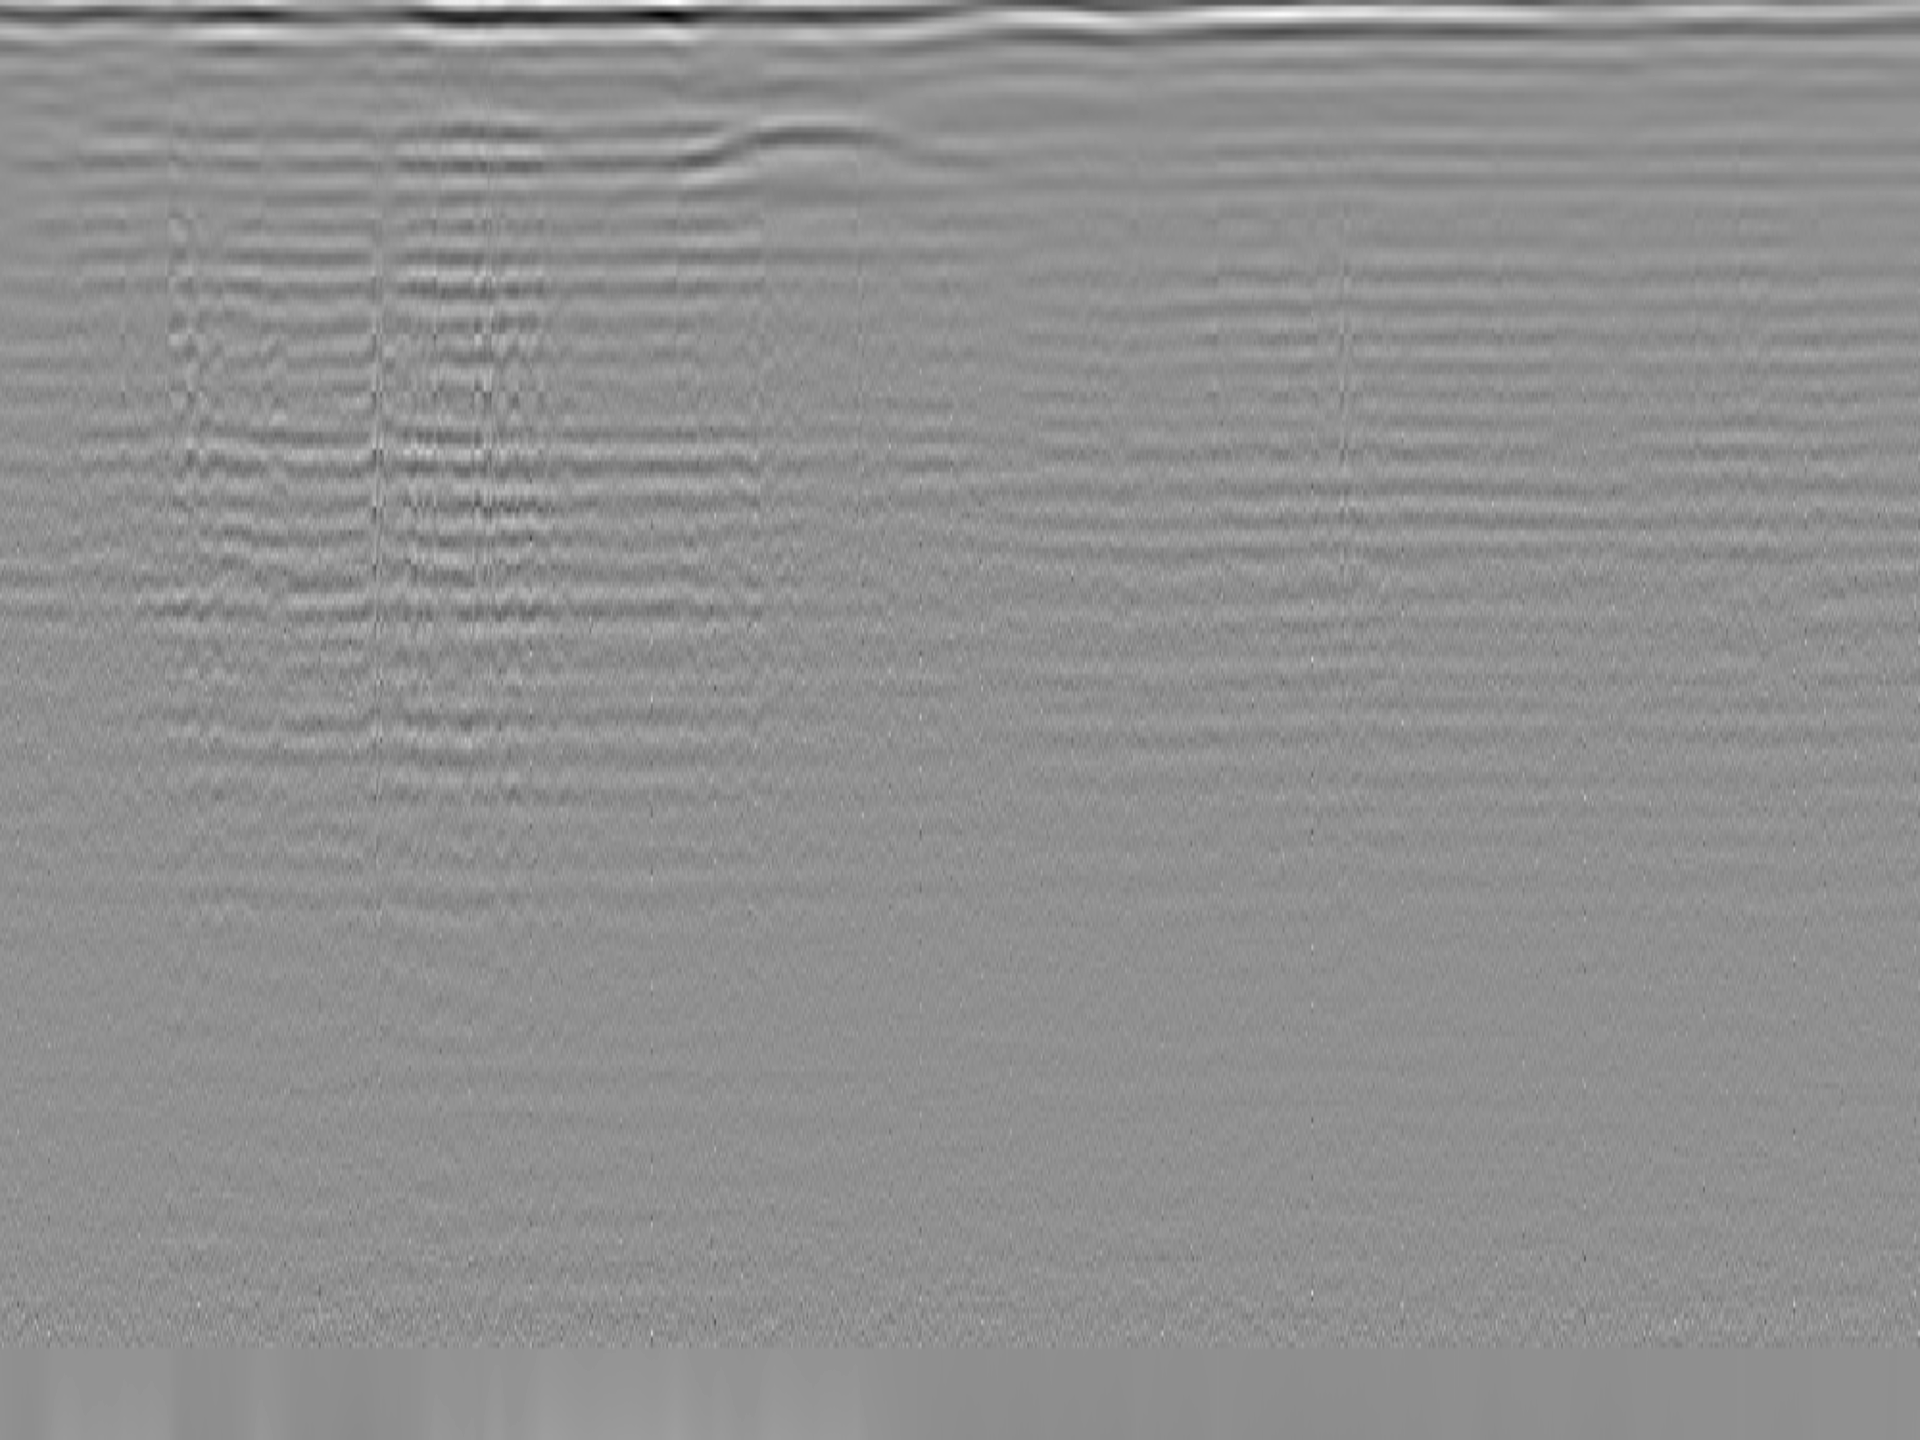Tunnel: (673, 115, 983, 172)
